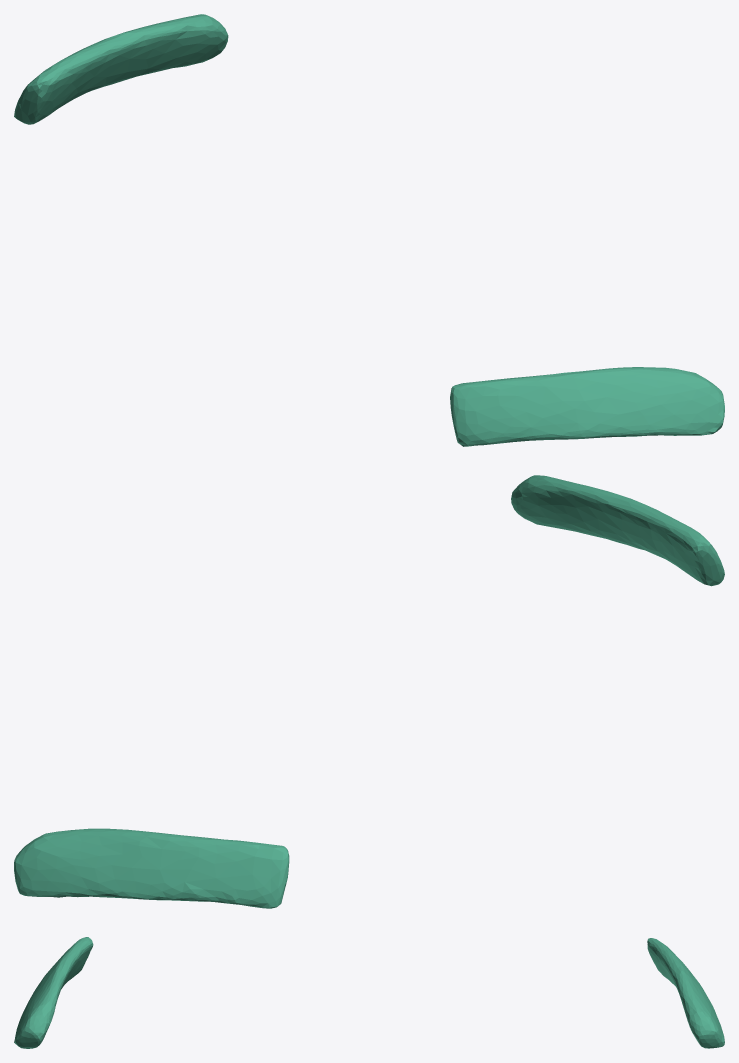
The picture shows the model from 3 angles, top to bottom: view 1: azimuth 30°, elevation 25°; view 2: azimuth 150°, elevation 25°; view 3: azimuth 270°, elevation 25°; orthographic projection. The views are drawn at different scales.
Parts seen in each view (by area): view 1: 344.obj; view 2: 344.obj; view 3: 344.obj.
Part boxes in pixels (x1,y1,x2,y2): 344.obj: [14, 14, 724, 446]; 344.obj: [14, 475, 724, 908]; 344.obj: [14, 937, 724, 1048].
Size of the model in its own units: 2360 by 630 by 9070.
